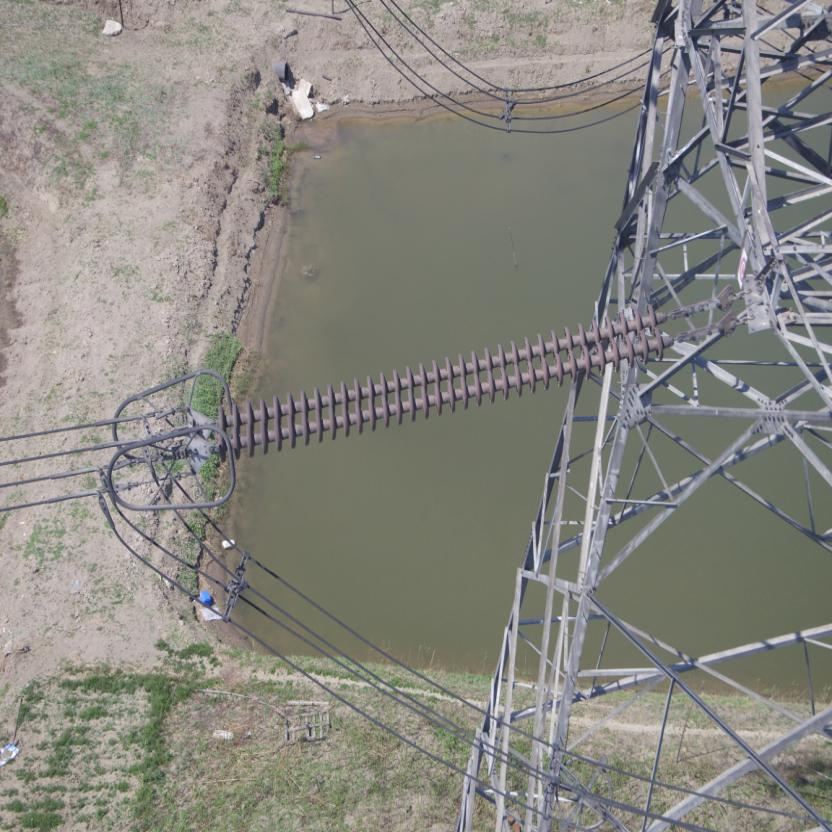insulator: (203, 301, 694, 466)
